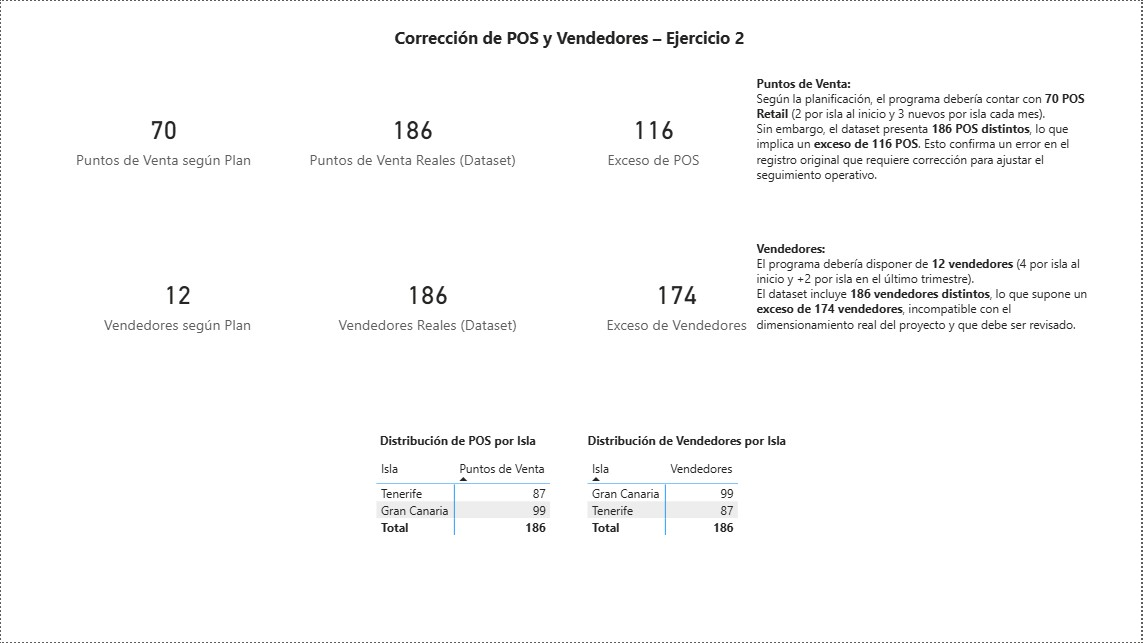

Layout of this report page (visuals, bound fields, positions):
{"tool":"powerbi","page":{"name":"Ejercicio 2 – POS y Vendedores","canvas":[1280,720],"ordinal":2},"visuals":[{"type":"pivotTable","fields":{"Rows":["FACT_Operativa.Island"],"Values":["Count(FACT_Operativa.POS_ID)"]},"box":[416.7,510,237.8,113.3],"z":0},{"type":"pivotTable","fields":{"Rows":["FACT_Operativa.Island"],"Values":["Count(FACT_Operativa.Vendor_ID)"]},"box":[654.4,510,280,113.3],"z":1},{"type":"card","fields":{"Values":["FACT_Operativa.POS_Plan"]},"box":[42.2,78.9,280,150],"z":2},{"type":"card","fields":{"Values":["Count(FACT_Operativa.POS_ID)"]},"box":[322.2,78.9,280,150],"z":3},{"type":"card","fields":{"Values":["FACT_Operativa.Exceso_POS"]},"box":[593.3,78.9,280,150],"z":4},{"type":"textbox","box":[436.7,23.3,406.7,37.8],"z":5},{"type":"card","fields":{"Values":["FACT_Operativa.Vend_Plan"]},"box":[58.9,264.4,280,150],"z":6},{"type":"card","fields":{"Values":["FACT_Operativa.Vend_Reales"]},"box":[338.9,264.4,280,150],"z":7},{"type":"card","fields":{"Values":["FACT_Operativa.Exceso_Vendedores"]},"box":[618.9,264.4,280,150],"z":8},{"type":"textbox","box":[416.7,480,223.3,30],"z":9},{"type":"textbox","box":[654.4,480,280,30],"z":10},{"type":"textbox","box":[843.3,78.9,386.7,150],"z":11},{"type":"textbox","box":[843.3,264.4,386.7,150],"z":12}]}

Visuals, with their boxes in screenshot pixels (x1, y1, x2, y2), scaled from the page's 1280x720 canvas onto the 1143x643 screenshot:
pivotTable - FACT_Operativa.Island x Count(FACT_Operativa.POS_ID): (372,455,584,557)
pivotTable - FACT_Operativa.Island x Count(FACT_Operativa.Vendor_ID): (584,455,834,557)
card - FACT_Operativa.POS_Plan: (38,70,288,204)
card - Count(FACT_Operativa.POS_ID): (288,70,538,204)
card - FACT_Operativa.Exceso_POS: (530,70,780,204)
textbox: (390,21,753,55)
card - FACT_Operativa.Vend_Plan: (53,236,303,370)
card - FACT_Operativa.Vend_Reales: (303,236,553,370)
card - FACT_Operativa.Exceso_Vendedores: (553,236,803,370)
textbox: (372,429,572,455)
textbox: (584,429,834,455)
textbox: (753,70,1098,204)
textbox: (753,236,1098,370)
